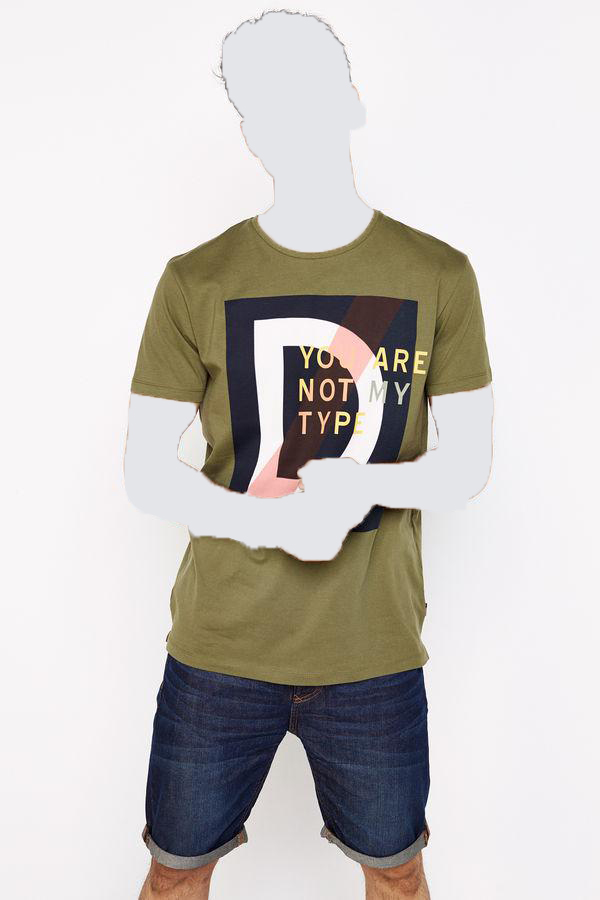teeshirt: (111, 206, 514, 689)
